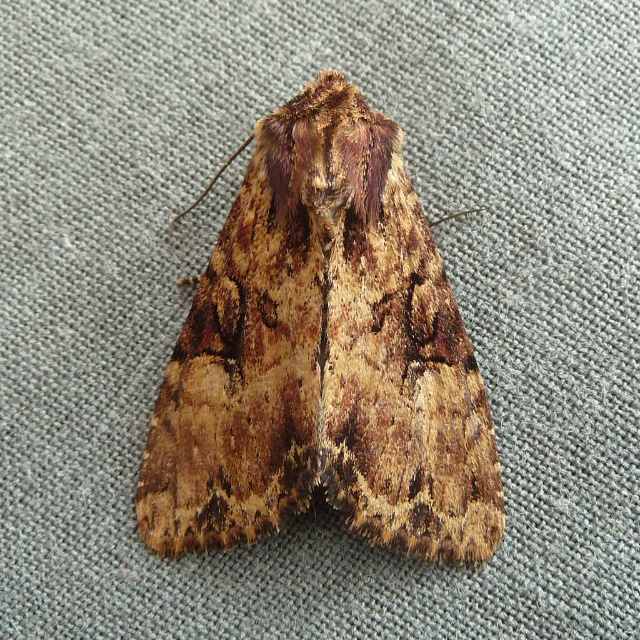Moths and butterflies: (134, 64, 510, 572)
